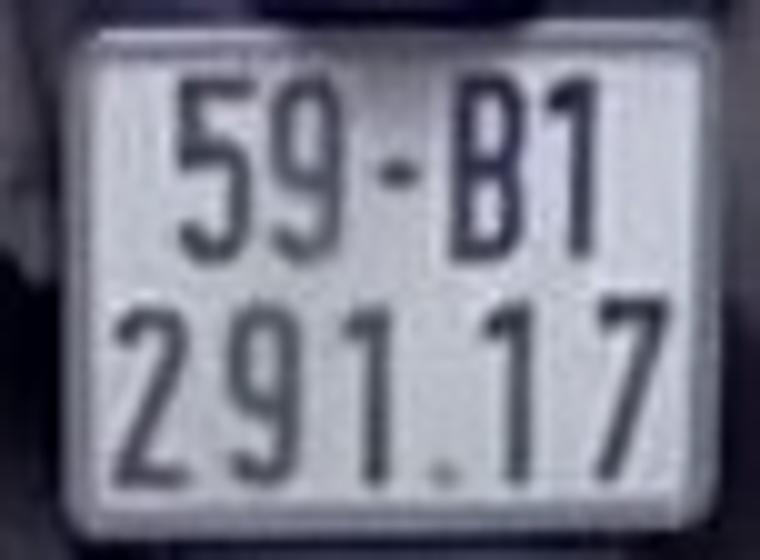-: (370, 150, 429, 191)
.: (422, 456, 471, 496)
1: (532, 64, 610, 262), (340, 295, 406, 503), (484, 290, 545, 499)
2: (104, 289, 201, 491)
5: (178, 75, 261, 268)
7: (592, 284, 678, 492)
9: (266, 67, 348, 266), (227, 296, 308, 491)
B: (440, 62, 527, 272)
